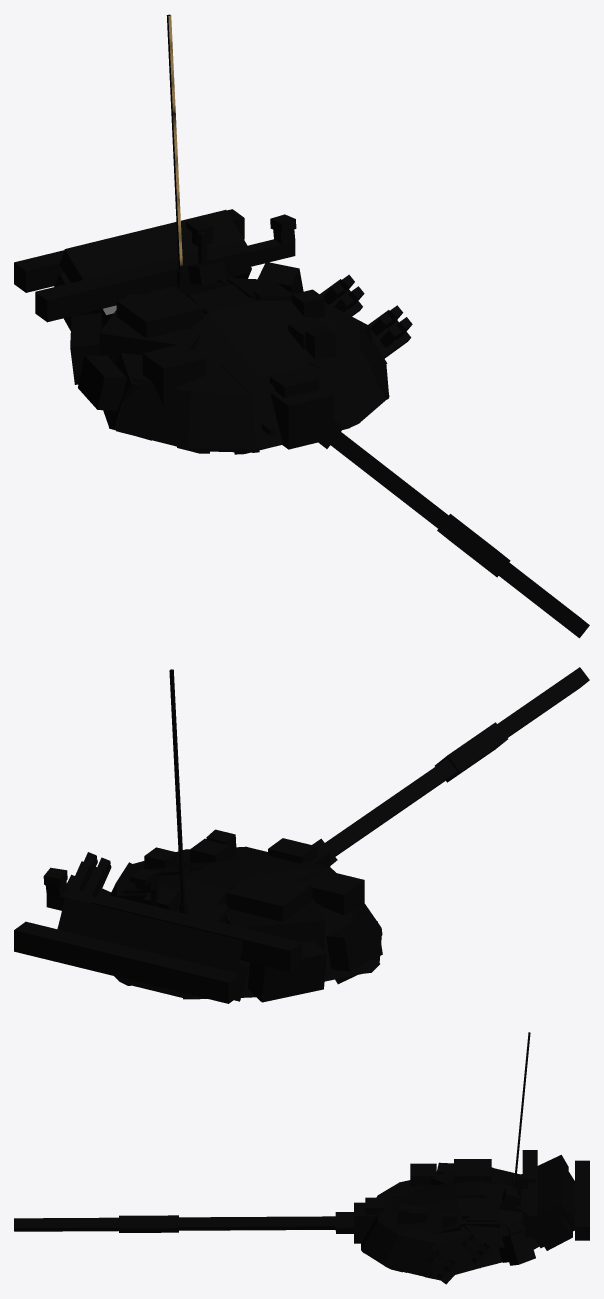
The model's file is t64_turret.obj.
3 renders of one model, top to bottom at view 1: azimuth 30°, elevation 25°; view 2: azimuth 150°, elevation 25°; view 3: azimuth 270°, elevation 25°, orthographic. The views are drawn at different scales.
Visible parts, largest first — view 1: turret, gun; view 2: turret, gun; view 3: turret, gun.
Part boxes in pixels (x1,y1,x2,y2): turret: [14, 14, 412, 454]; gun: [269, 368, 589, 638]; turret: [14, 669, 382, 1003]; gun: [268, 667, 589, 866]; turret: [361, 1032, 589, 1284]; gun: [14, 1197, 383, 1243].
Bounding box in the file's own units: 4.17 × 4.38 × 10.57.
